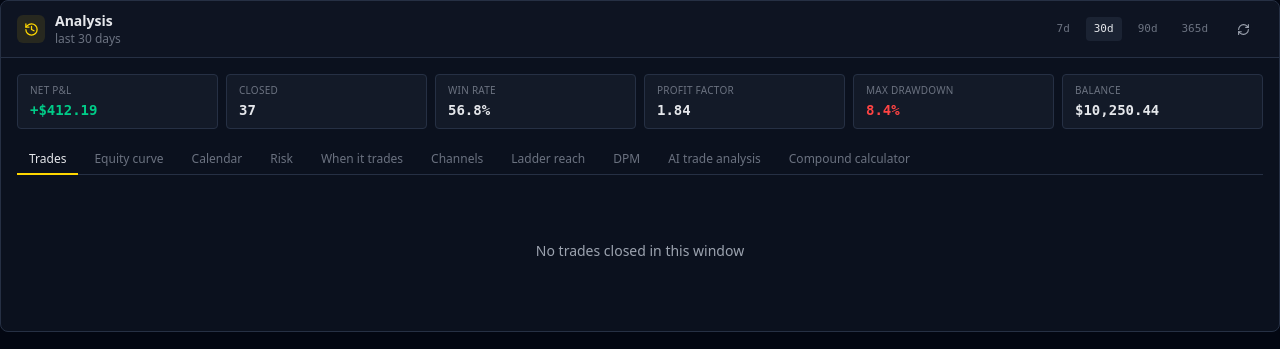
the channel scorecard › lists each channel with its numbers
This screenshot has width=1280, height=349.
Step 1. Click the tab "Channels" → [457, 160], box left=419, top=145, right=495, bottom=175
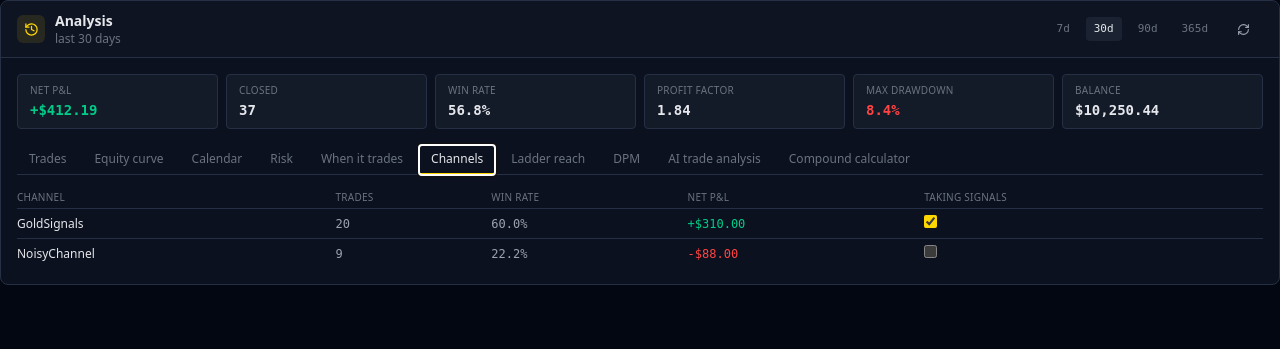
Expected: the text "GoldSignals" is shown, left=17, top=209, right=336, bottom=239
Expected: the text "+$310.00" is shown, left=688, top=209, right=924, bottom=239
Expected: the text "-$88.00" is shown, left=688, top=239, right=924, bottom=268
